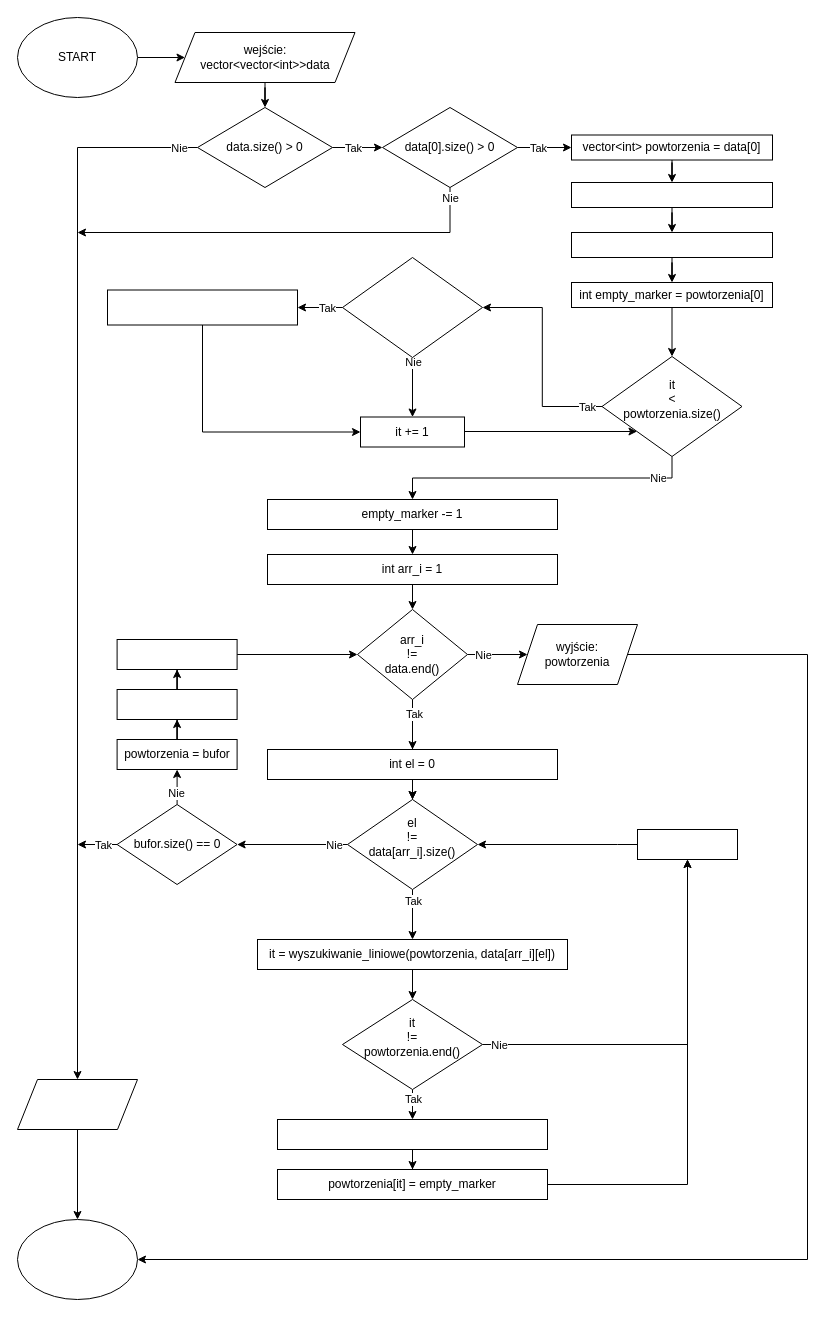
Image size: 833x1317. Some labels were removed from this diagram. The centre of each missing label's shape, as x and y in pixels:
"arr_i += 1" belongs at (176,654).
"bufor.clear()" belongs at (176,704).
"bufor.push_back(data[arr_i][el])" belongs at (412,1134).
"el += 1" belongs at (687,844).
"empty_marker = powtorzenia[it]" belongs at (202,307).
"END" belongs at (77,1259).
"int it = 0" belongs at (671,245).
"powtorzenia[it] < empty_marker" belongs at (412,307).
"vector<int> bufor" belongs at (671,195).
"wyjście: array[]" belongs at (77,1104).
